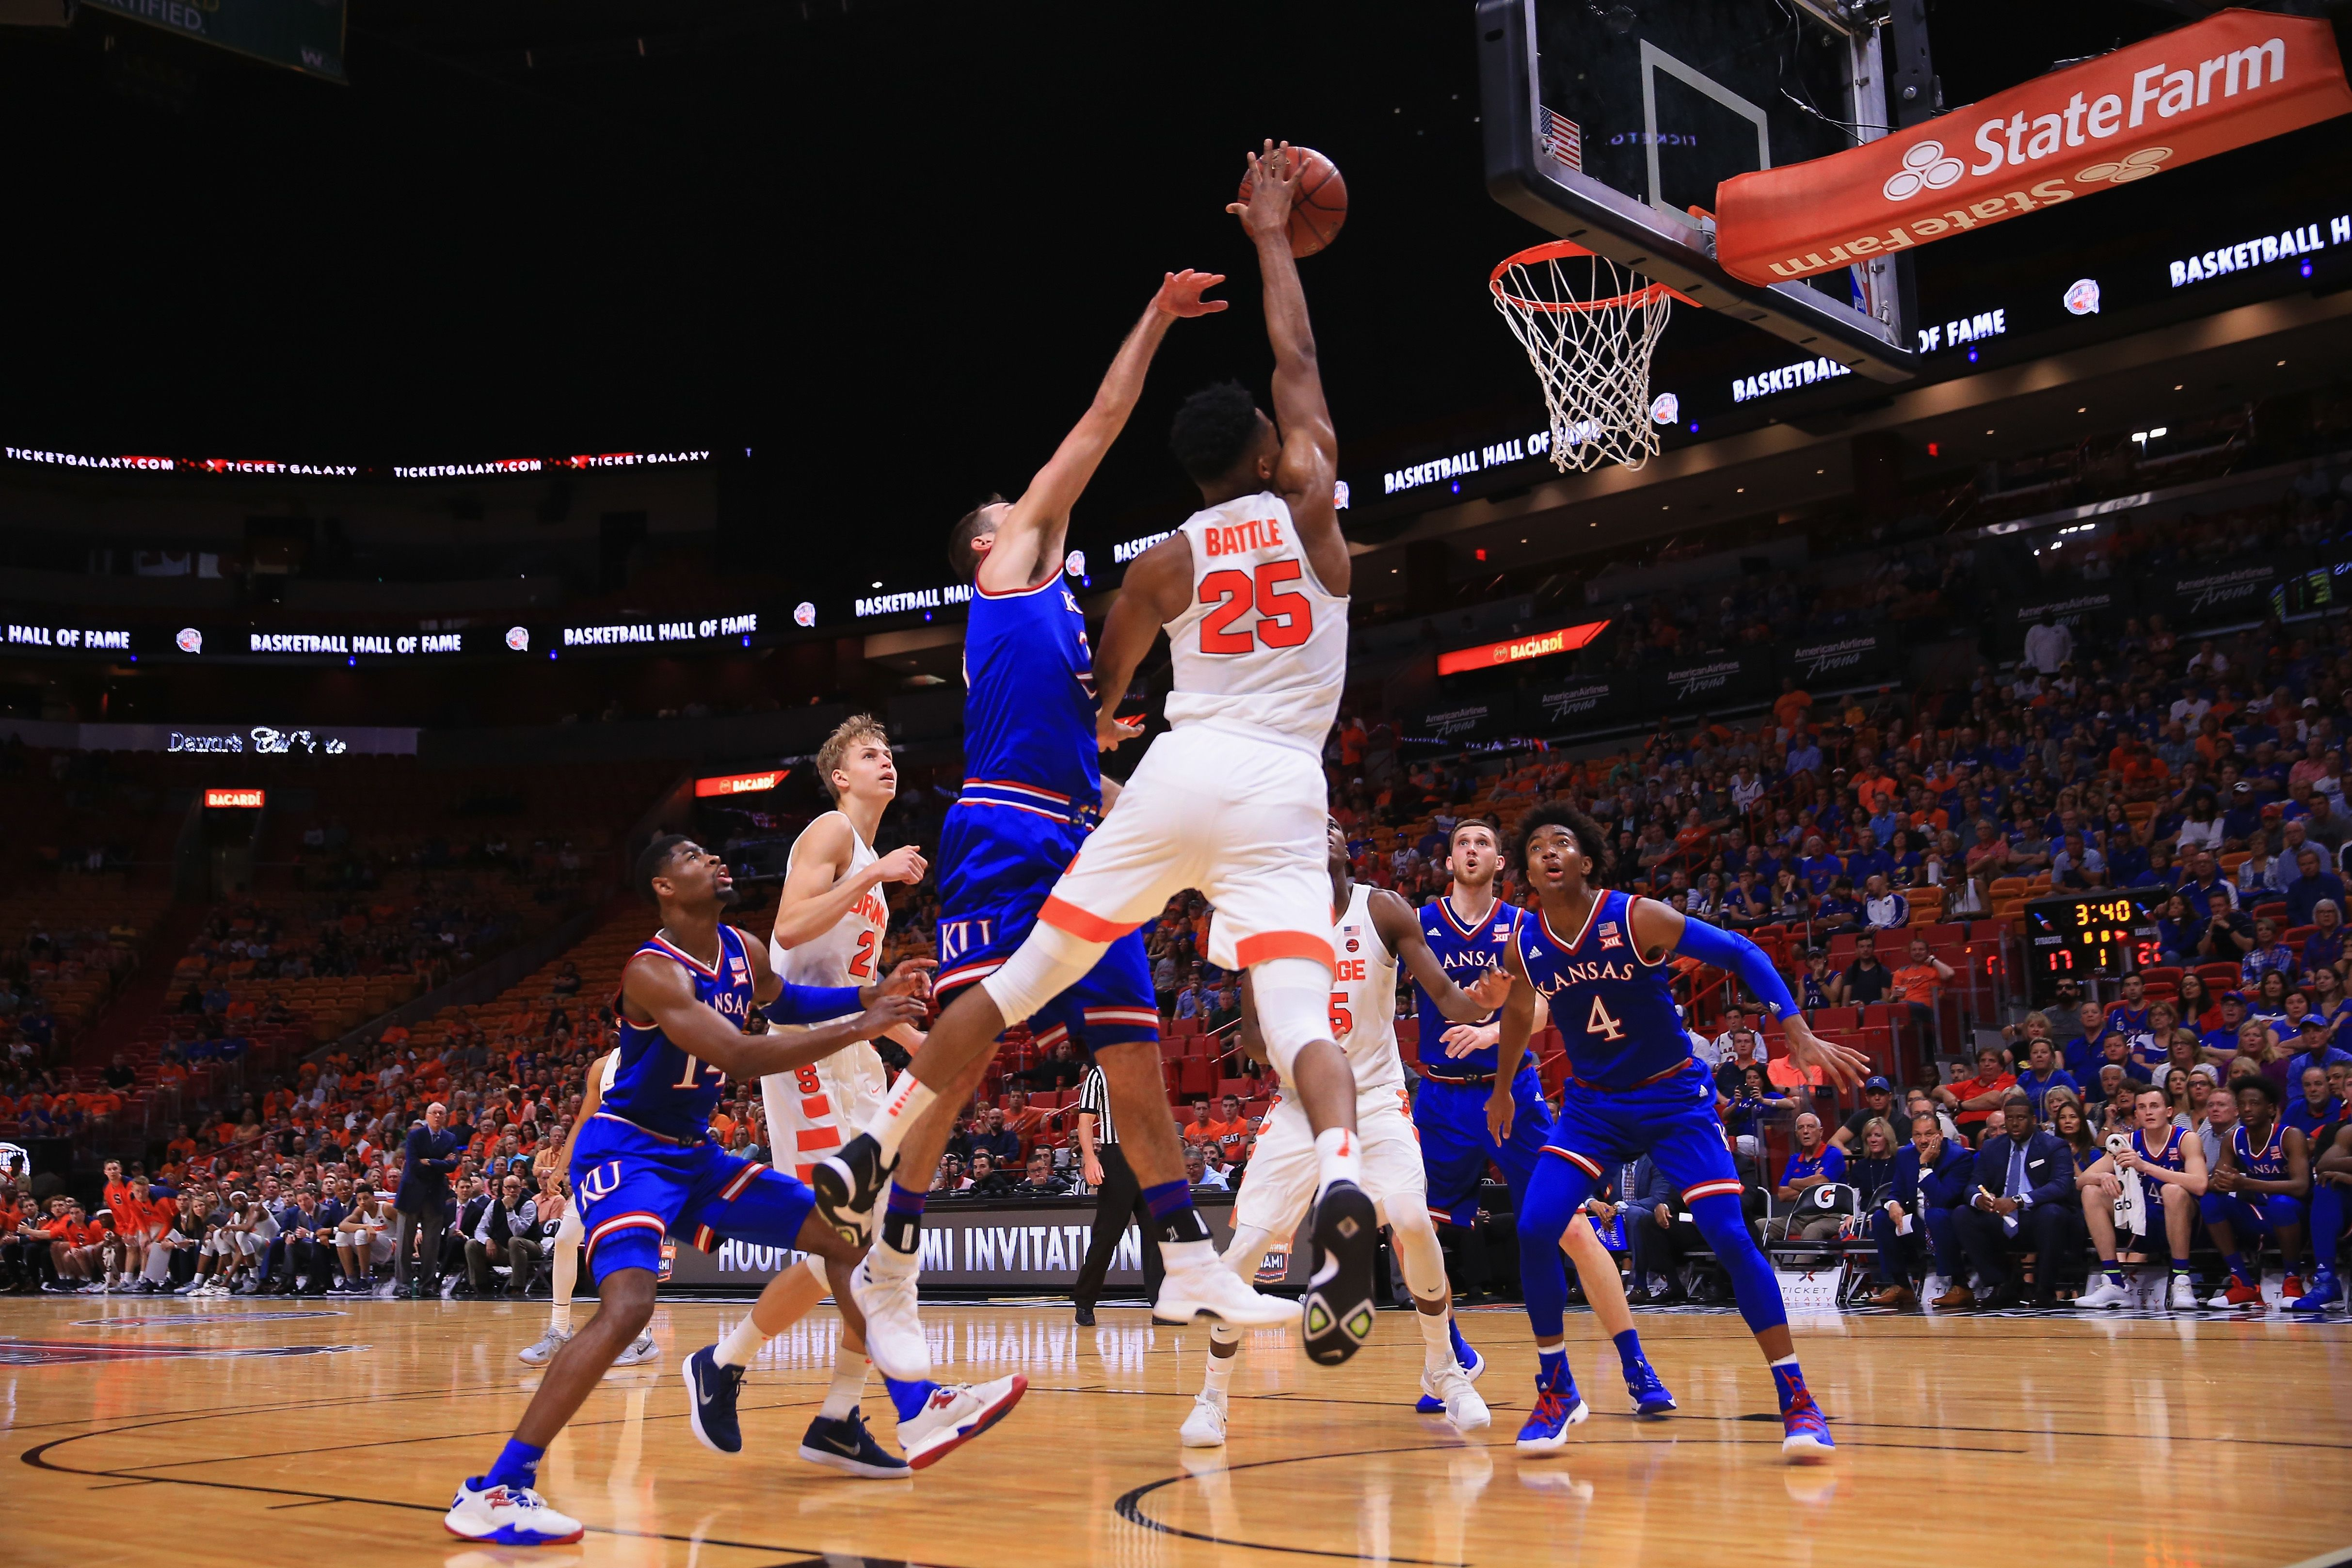basket: (1459, 208, 1727, 483)
block: (824, 233, 1246, 1398)
shoot: (1130, 73, 1409, 1332)
